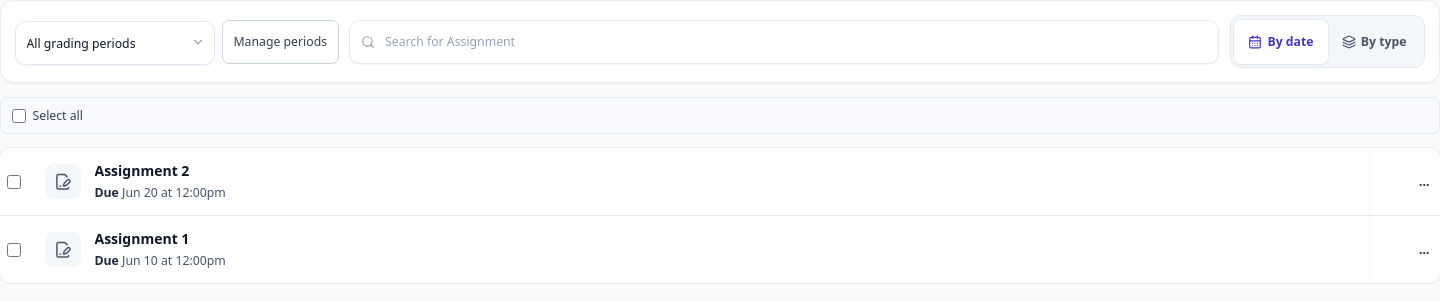
Test case: AssignmentList › should filter by search query
In the search field with placeholder "Search for Assignment": (784, 42) [349, 20, 1219, 64], type "Assignment 1"
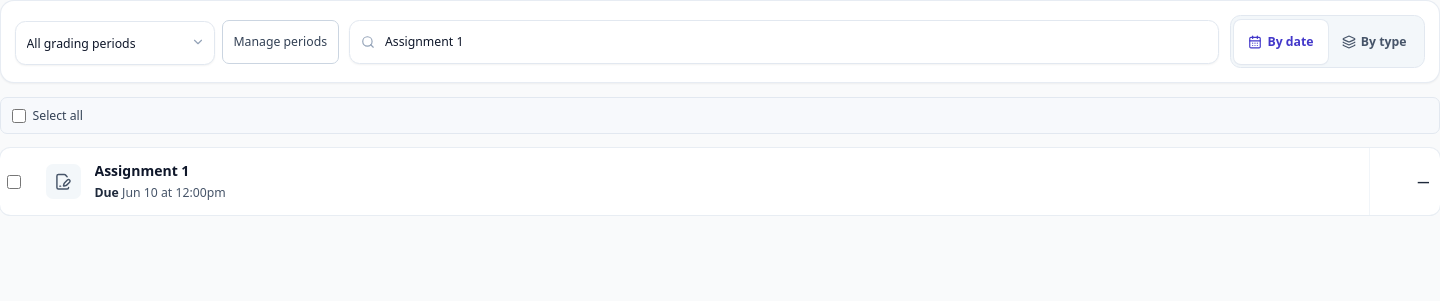
Expected: the text "Assignment 1" is shown, [94, 161, 189, 180]
Now the button "Assignment 2" is gone
